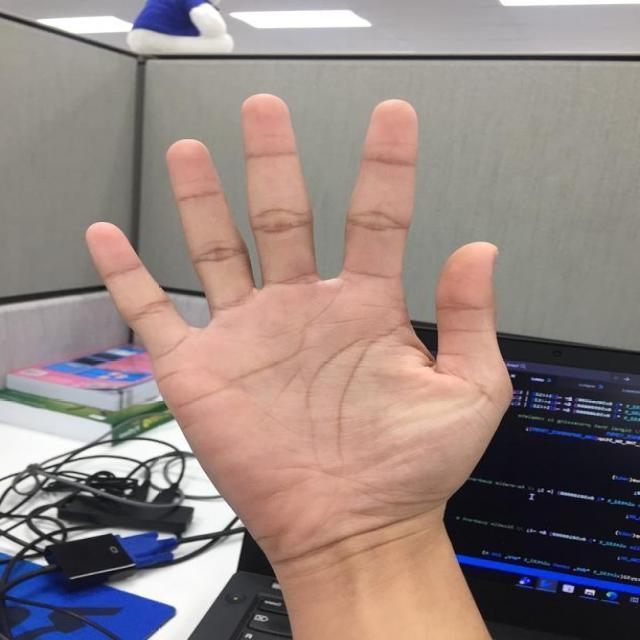hand: (80, 94, 516, 556)
